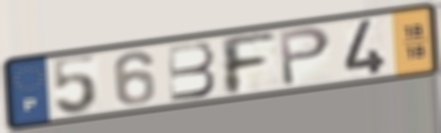4: (341, 16, 388, 78)
5: (51, 52, 100, 117)
6: (110, 49, 157, 108)
B: (164, 40, 219, 104)
F: (215, 30, 279, 97)
P: (277, 24, 333, 89)
